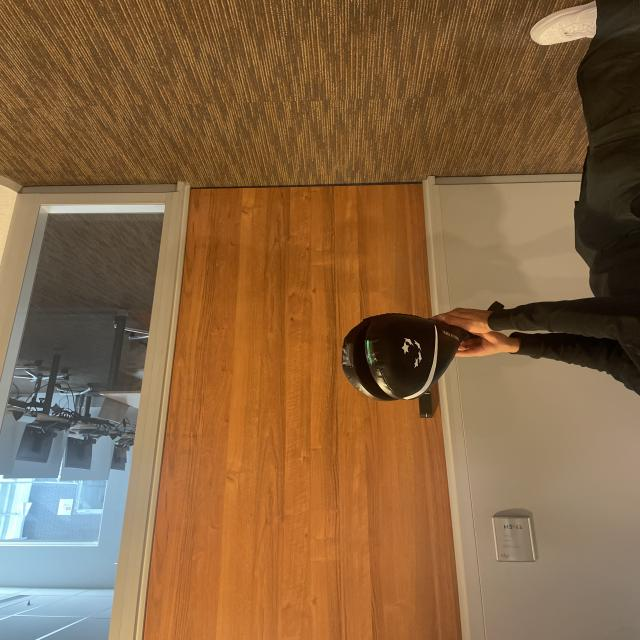paddle: (344, 316, 464, 403)
trigger: (363, 339, 374, 367)
